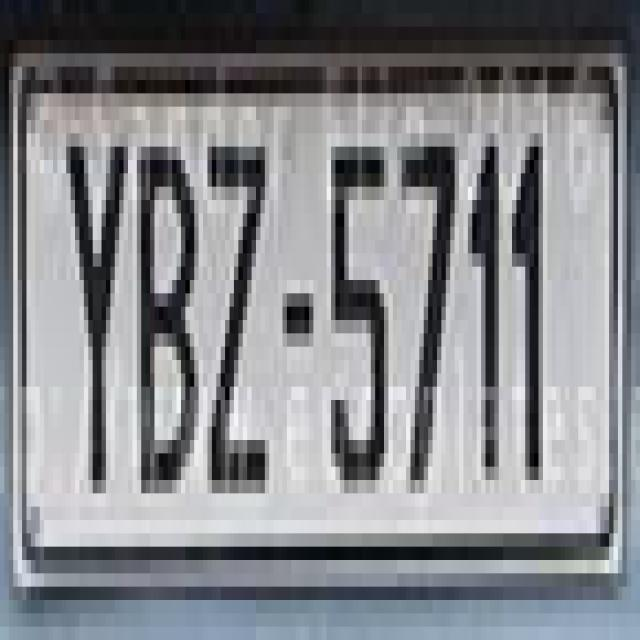Autre: (13, 65, 622, 581)
